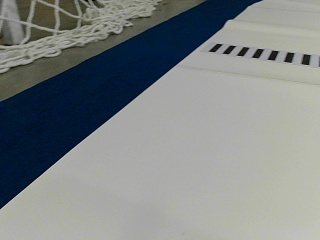crosswalk: (208, 42, 317, 66)
